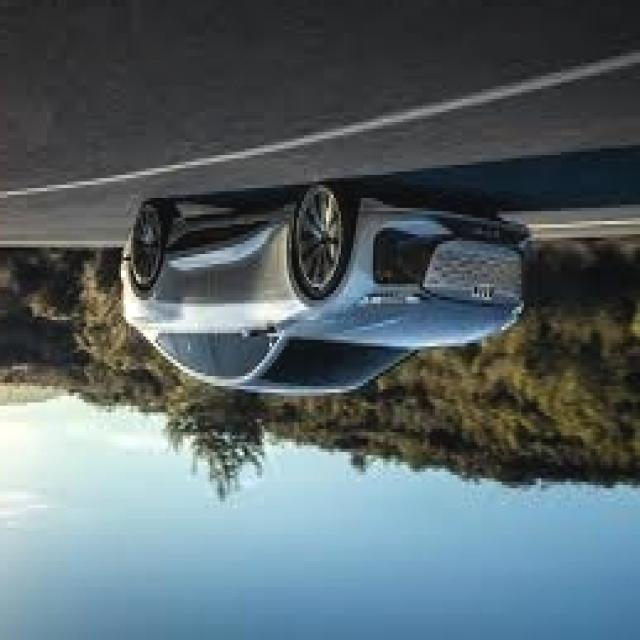black: (124, 196, 537, 410)
